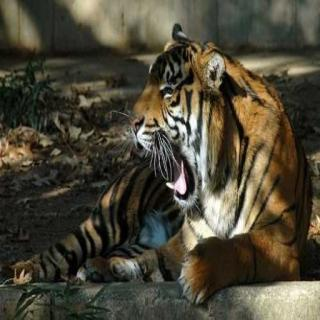Tiger: (8, 23, 318, 306)
